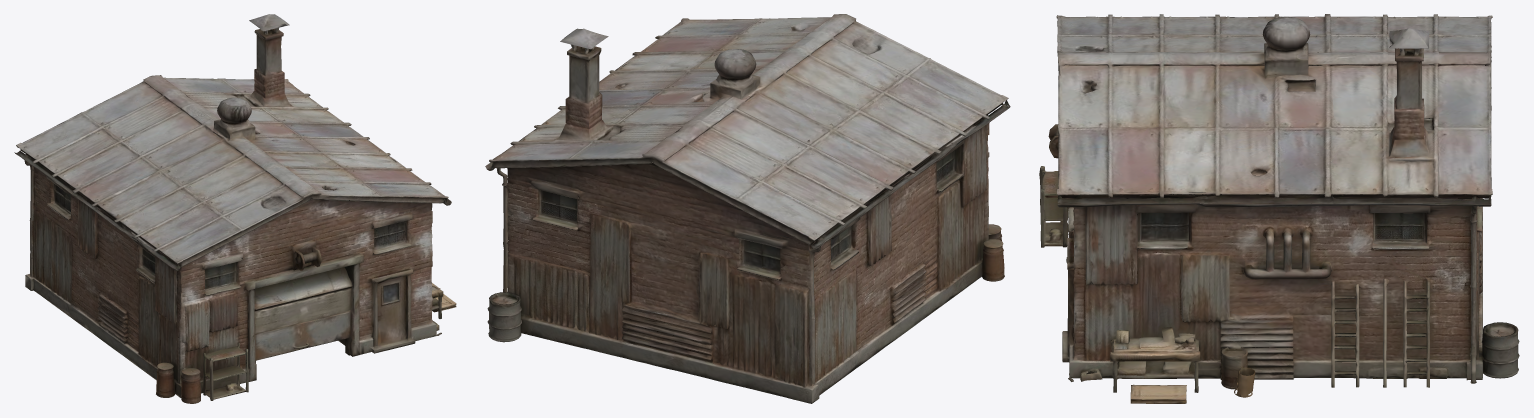
The model's file is empresa.glb.
The picture shows the model from 3 angles, left to right: view 1: azimuth 30°, elevation 25°; view 2: azimuth 150°, elevation 25°; view 3: azimuth 270°, elevation 25°; orthographic projection. The views are drawn at different scales.
Parts seen in each view (by area): view 1: empresa; view 2: empresa; view 3: empresa.
Boxes of the visible parts, <box> form: empresa: <box>14,14,456,403</box>; empresa: <box>485,14,1010,403</box>; empresa: <box>1039,14,1519,403</box>.
Size of the model in its own units: 14 by 10.22 by 13.72.
Materials: 1 (1 with a texture image).
